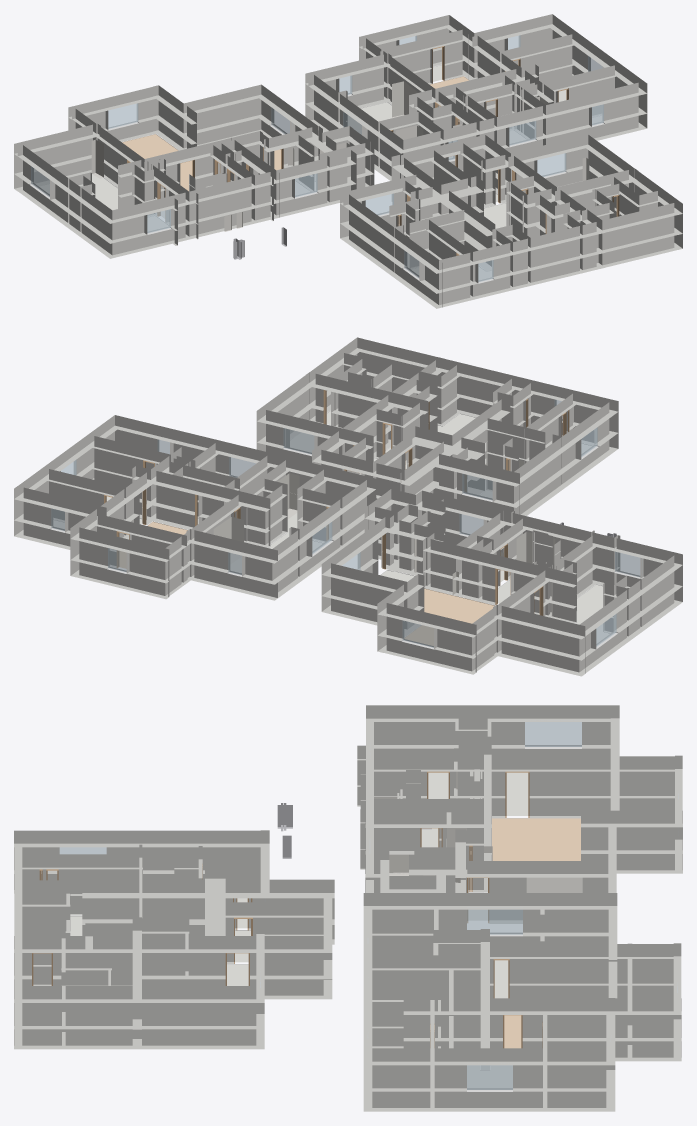
The picture shows the model from 3 angles, top to bottom: view 1: azimuth 30°, elevation 25°; view 2: azimuth 150°, elevation 25°; view 3: azimuth 270°, elevation 25°; orthographic projection. The views are drawn at different scales.
Visible parts, largest first — view 1: walls, floor_0_Living_Room, floor_4_Undefined, furniture_1_closet, window_33, floor_20_Undefined, floor_5_Undefined, window_12, window_28, furniture_0_closet, window_9; view 2: walls, floor_0_Living_Room, floor_4_Undefined, window_33, furniture_1_closet, window_12, window_23, furniture_10_closet, furniture_11_closet, window_9; view 3: walls, floor_0_Living_Room, floor_4_Undefined, window_3, window_5, window_2, floor_7_Undefined, window_0, floor_20_Undefined, railings, floor_3_Living_Room.
Boxes of the visible parts, left/top/right/bottom form: walls: left=14, top=14, right=682, bottom=308; floor_0_Living_Room: left=122, top=134, right=280, bottom=191; floor_4_Undefined: left=39, top=174, right=168, bottom=231; furniture_1_closet: left=392, top=81, right=418, bottom=117; window_33: left=108, top=103, right=138, bottom=128; floor_20_Undefined: left=478, top=203, right=506, bottom=280; floor_5_Undefined: left=348, top=102, right=452, bottom=158; window_12: left=537, top=153, right=566, bottom=176; window_28: left=509, top=121, right=536, bottom=145; furniture_0_closet: left=91, top=139, right=103, bottom=178; window_9: left=147, top=209, right=170, bottom=232; walls: left=14, top=337, right=682, bottom=676; floor_0_Living_Room: left=404, top=588, right=494, bottom=645; floor_4_Undefined: left=575, top=584, right=609, bottom=643; window_33: left=402, top=620, right=433, bottom=647; furniture_1_closet: left=213, top=517, right=243, bottom=563; window_12: left=283, top=428, right=314, bottom=454; window_23: left=462, top=474, right=492, bottom=500; furniture_10_closet: left=278, top=473, right=299, bottom=519; furniture_11_closet: left=516, top=531, right=555, bottom=563; window_9: left=615, top=551, right=640, bottom=577; walls: left=14, top=705, right=682, bottom=1111; floor_0_Living_Room: left=492, top=818, right=582, bottom=892; floor_4_Undefined: left=428, top=772, right=528, bottom=815; window_3: left=525, top=722, right=581, bottom=746; window_5: left=467, top=909, right=522, bottom=934; window_2: left=467, top=1065, right=512, bottom=1089; floor_7_Undefined: left=467, top=1065, right=512, bottom=1087; window_0: left=526, top=877, right=582, bottom=892; floor_20_Undefined: left=70, top=916, right=248, bottom=985; railings: left=277, top=803, right=431, bottom=858; floor_3_Living_Room: left=504, top=1015, right=521, bottom=1048.
Bounding box in the file's own units: 33.72 × 2.72 × 27.48.
